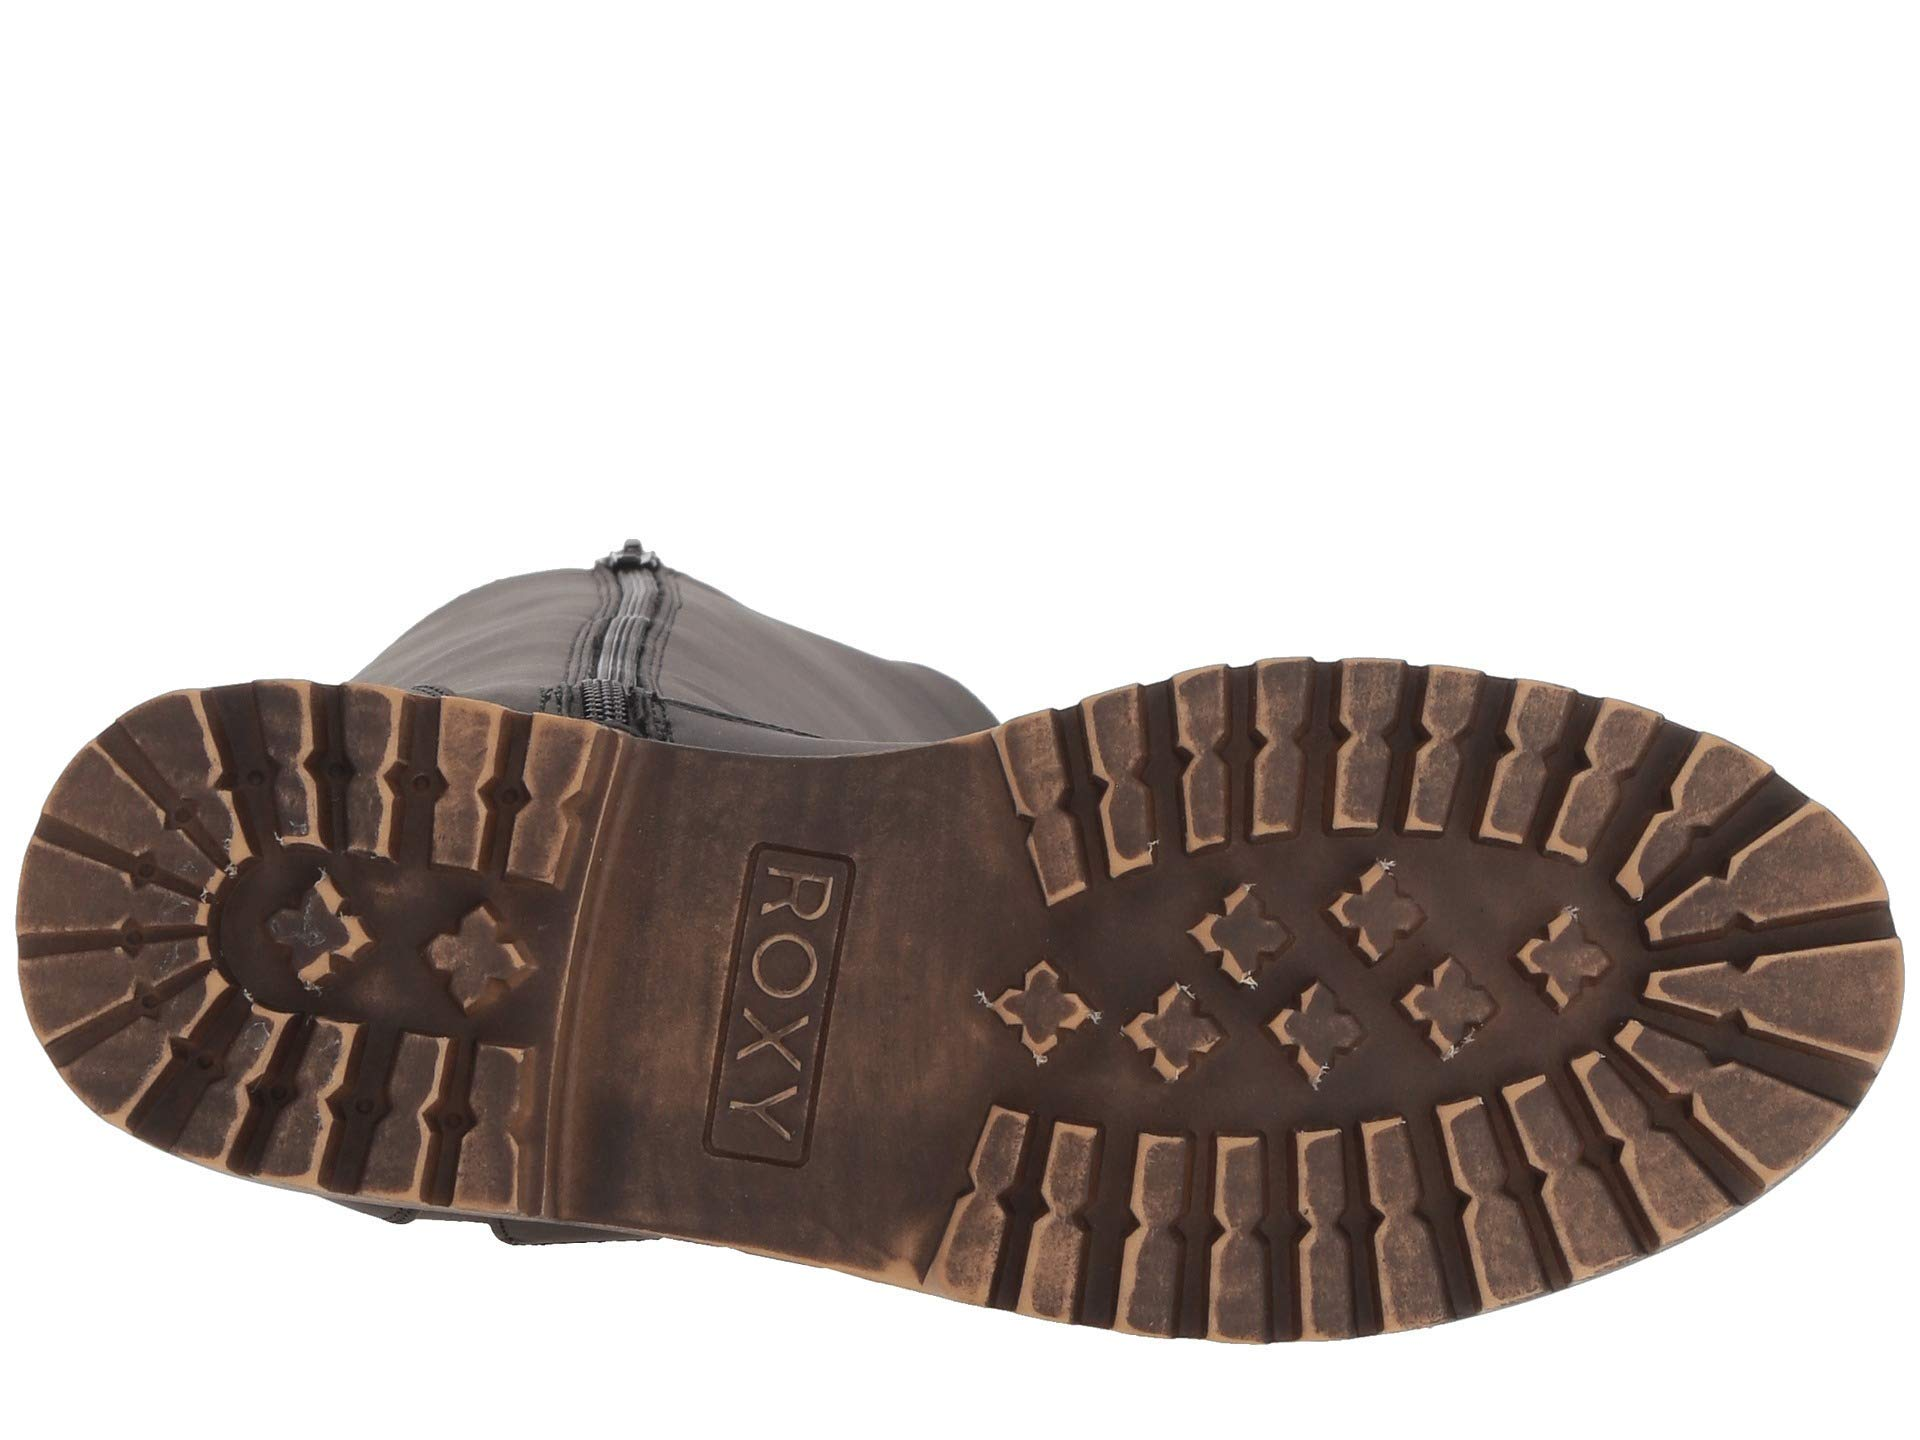circle: (664, 794, 884, 1195)
quad: (664, 794, 884, 1195)
star: (1023, 867, 1606, 1072)
text: (664, 794, 884, 1195)
